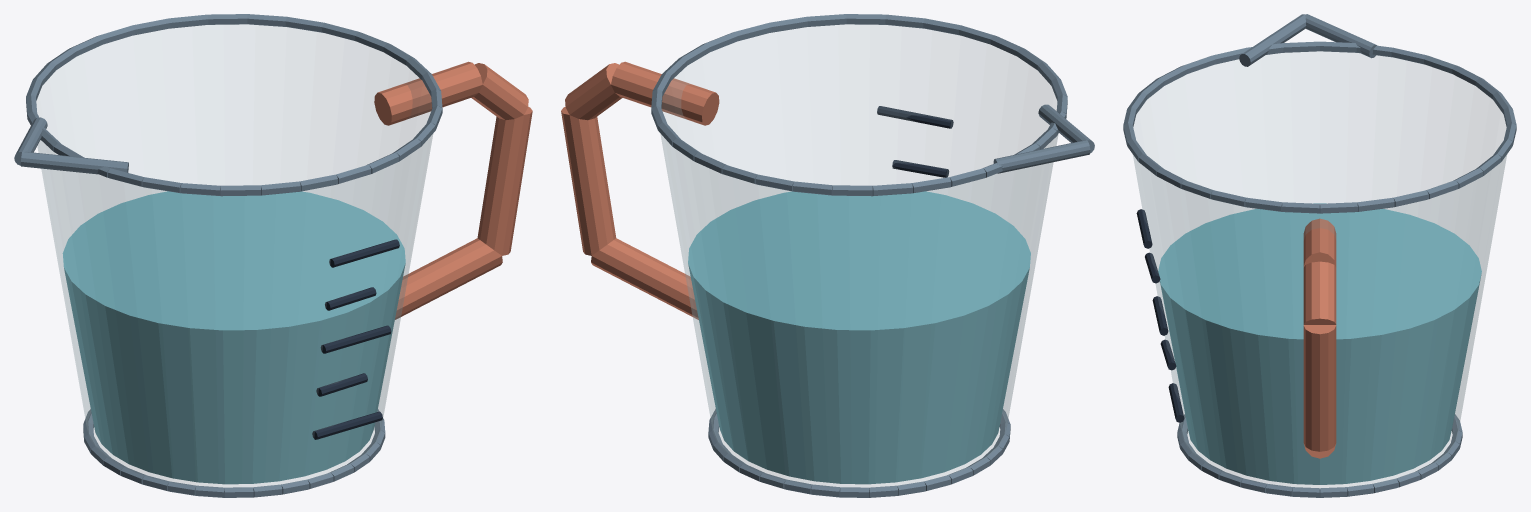
The model's file is jug.glb.
3 views of the same model, side by side, from view 1: azimuth 30°, elevation 25°; view 2: azimuth 150°, elevation 25°; view 3: azimuth 270°, elevation 25° (orthographic). The views are drawn at different scales.
Parts seen in each view (by area): view 1: glass wall, liquid, handle2, handle3, handle0, handle1, pour lip0, tick 4, tick 2, tick 0, pour lip1; view 2: glass wall, liquid, handle2, handle3, handle0, handle1, pour lip1, pour lip0, tick 4; view 3: glass wall, liquid, handle2, handle1, handle0, pour lip0, pour lip1.
Boxes of the visible parts, x1,y1,x2,y2 form: glass wall: [37, 25, 432, 487]; liquid: [62, 191, 405, 484]; handle2: [477, 107, 532, 255]; handle3: [395, 238, 502, 319]; handle0: [374, 61, 482, 125]; handle1: [471, 63, 528, 120]; pour lip0: [20, 151, 128, 174]; tick 4: [329, 239, 399, 267]; tick 2: [320, 325, 391, 353]; tick 0: [312, 411, 382, 439]; pour lip1: [14, 117, 47, 165]; glass wall: [660, 25, 1058, 487]; liquid: [688, 191, 1030, 484]; handle2: [561, 106, 616, 255]; handle3: [591, 238, 698, 319]; handle0: [611, 61, 719, 125]; handle1: [565, 63, 622, 120]; pour lip1: [993, 140, 1090, 173]; pour lip0: [1038, 104, 1094, 152]; tick 4: [877, 106, 953, 128]; glass wall: [1133, 52, 1506, 488]; liquid: [1158, 203, 1481, 484]; handle2: [1303, 325, 1336, 451]; handle1: [1303, 261, 1336, 324]; handle0: [1303, 218, 1336, 266]; pour lip0: [1239, 14, 1306, 66]; pour lip1: [1305, 14, 1376, 58].
Size of the model in its own units: 1.89 by 1.19 by 1.31.
